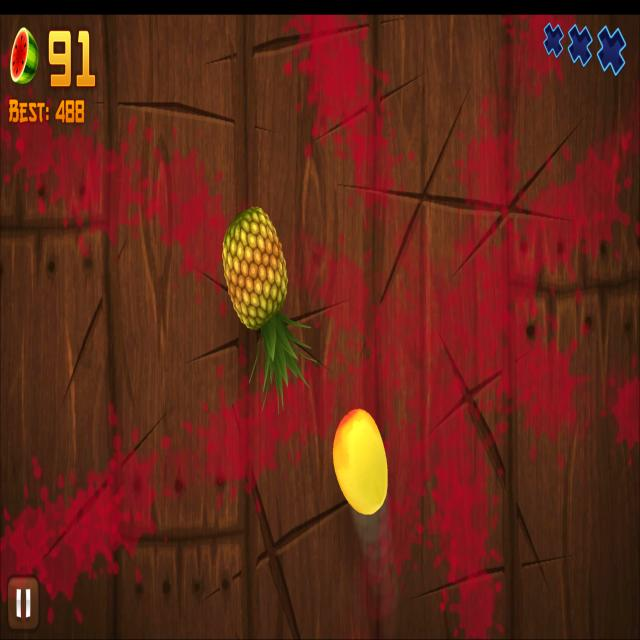fruit: (222, 206, 290, 331), (332, 406, 388, 516)
